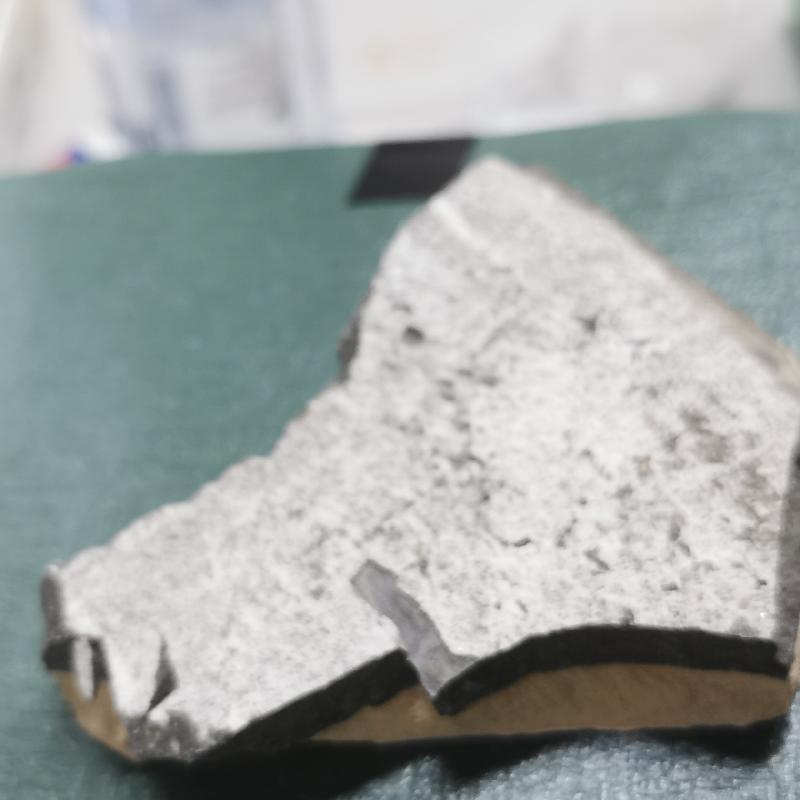tile: (40, 158, 800, 796)
